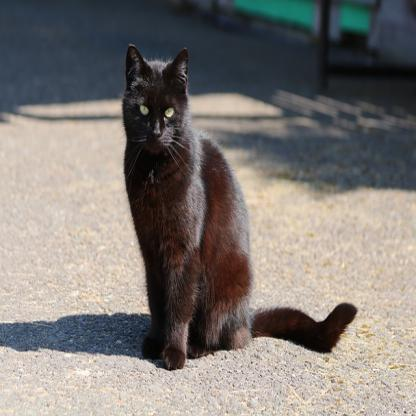cat: (122, 41, 360, 372)
